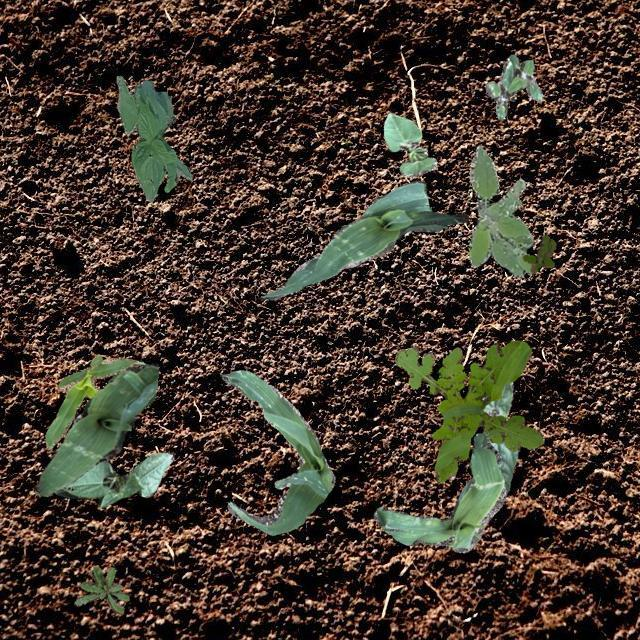crop: (260, 180, 468, 298), (220, 368, 334, 534), (34, 362, 158, 494), (372, 432, 506, 552), (116, 75, 192, 202), (44, 354, 144, 448), (54, 452, 172, 506), (482, 381, 516, 494), (382, 111, 436, 176)
weed: (393, 339, 542, 482), (468, 144, 532, 276), (484, 54, 540, 120), (74, 564, 128, 612), (522, 235, 554, 272)
